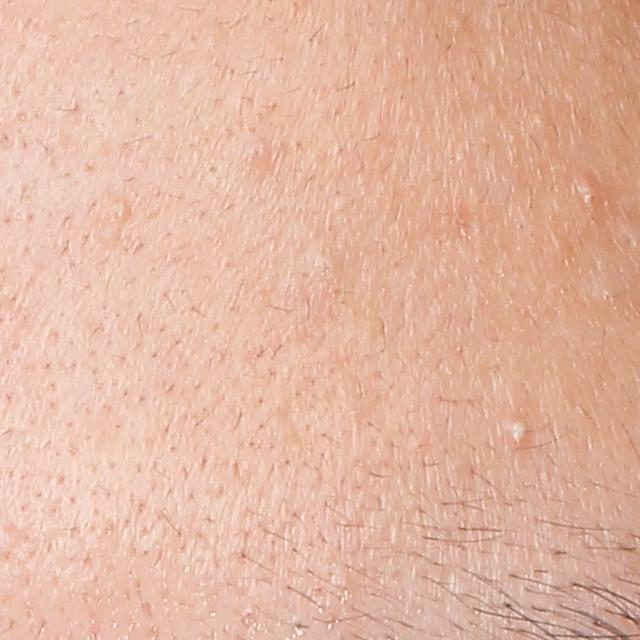comedo: (99, 197, 132, 228), (445, 12, 468, 38)
pustule: (502, 413, 535, 451)
